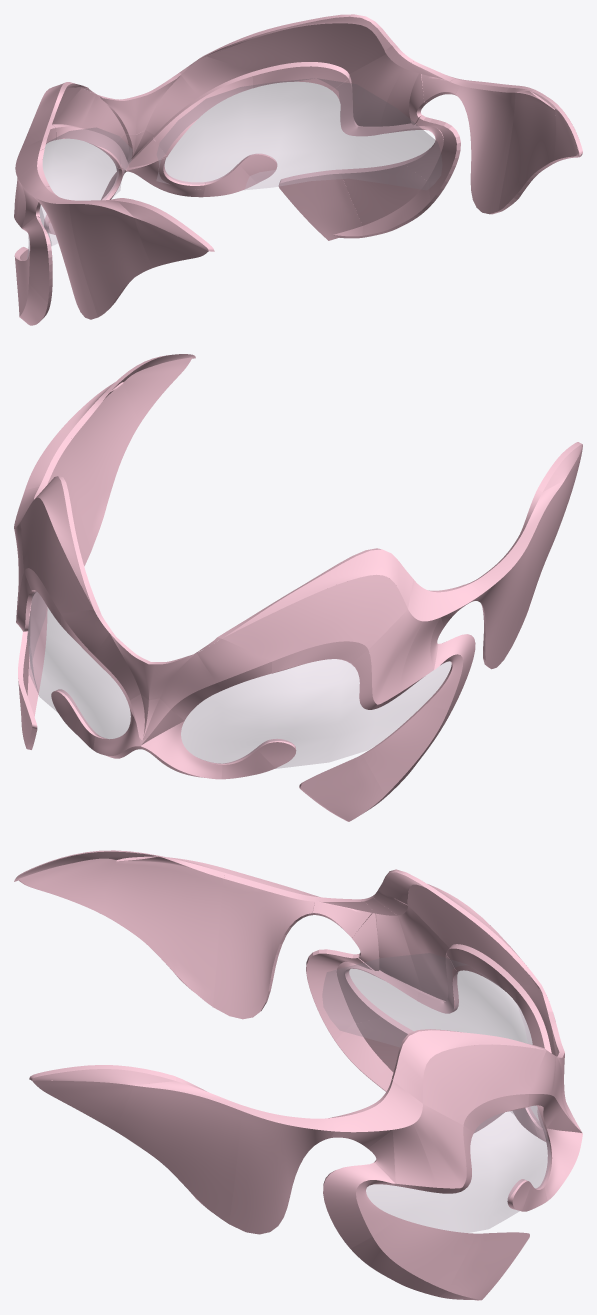
The picture shows the model from 3 angles, top to bottom: view 1: azimuth 30°, elevation 25°; view 2: azimuth 150°, elevation 25°; view 3: azimuth 270°, elevation 25°; orthographic projection. The views are drawn at different scales.
Visible parts, largest first — view 1: polySurface17.001; view 2: polySurface17.001; view 3: polySurface17.001.
Boxes of the visible parts, x1,y1,x2,y2 form: polySurface17.001: (14,14,582,325); polySurface17.001: (14,354,582,821); polySurface17.001: (14,850,582,1300).
Bounding box in the file's own units: 0.1989 × 0.1016 × 0.1954.
